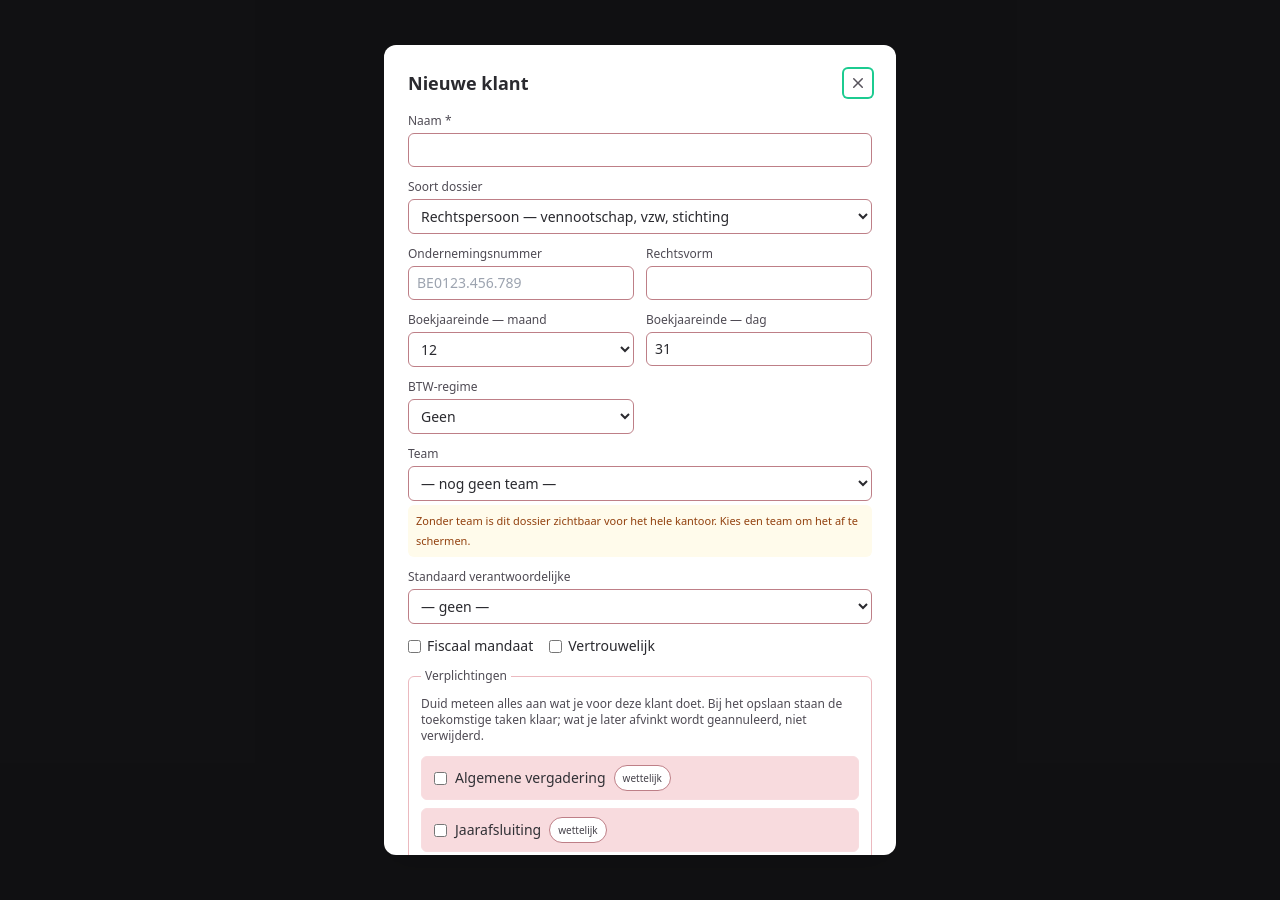
ClientFormModal — BTW-regime dependent field (checked-constraint mirror) › shows the aangiftefrequentie select only for periodieke_aangever, defaulting to kwartaal
The width and height of the screenshot is (1280, 900).
Expected: the text "Aangiftefrequentie" is not shown
Select "Periodieke aangever" in the dropdown labelled "BTW-regime" at (521, 416), box [408,399,634,434]
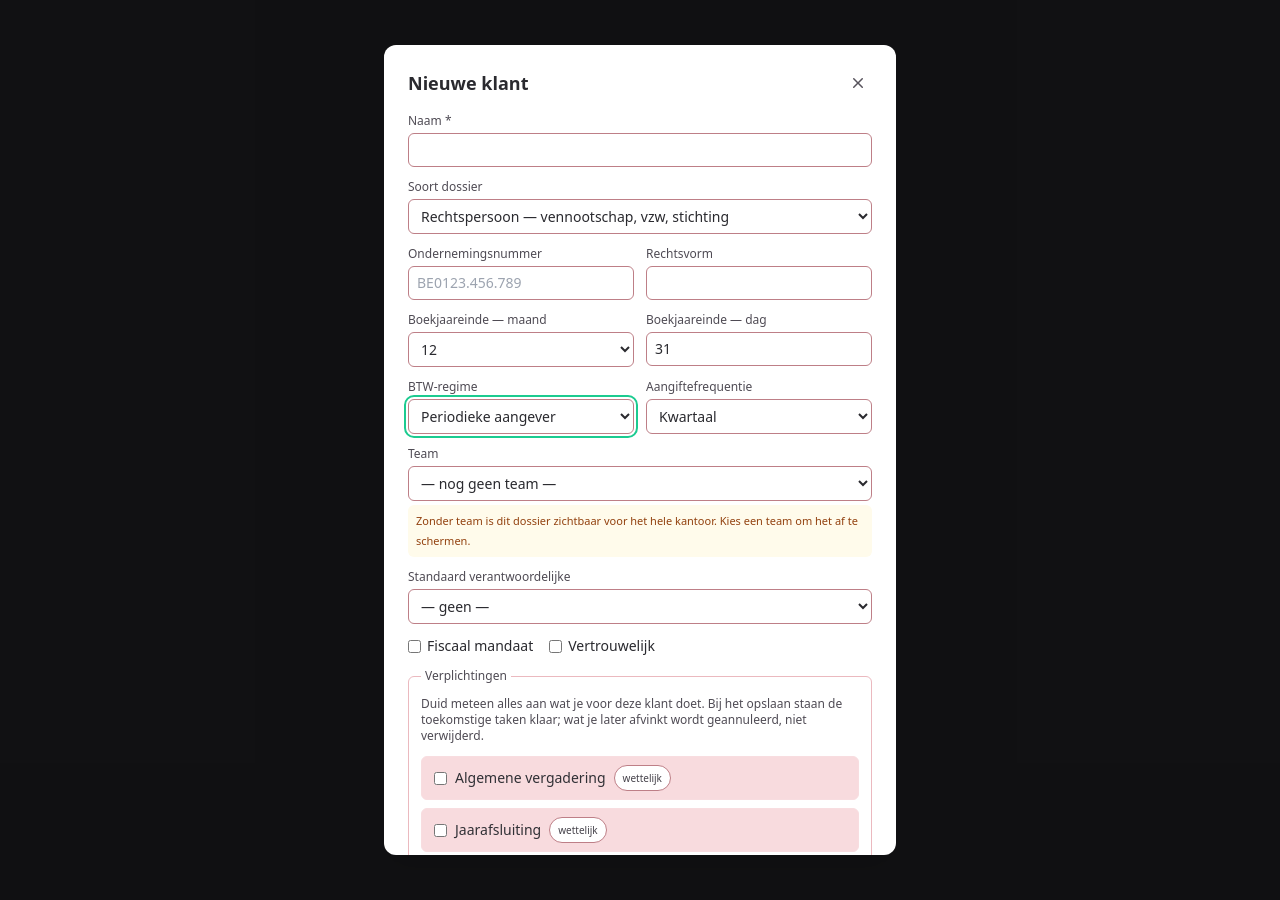
Expected: the dropdown labelled "Aangiftefrequentie" shows "Kwartaal", [646,399,872,434]
